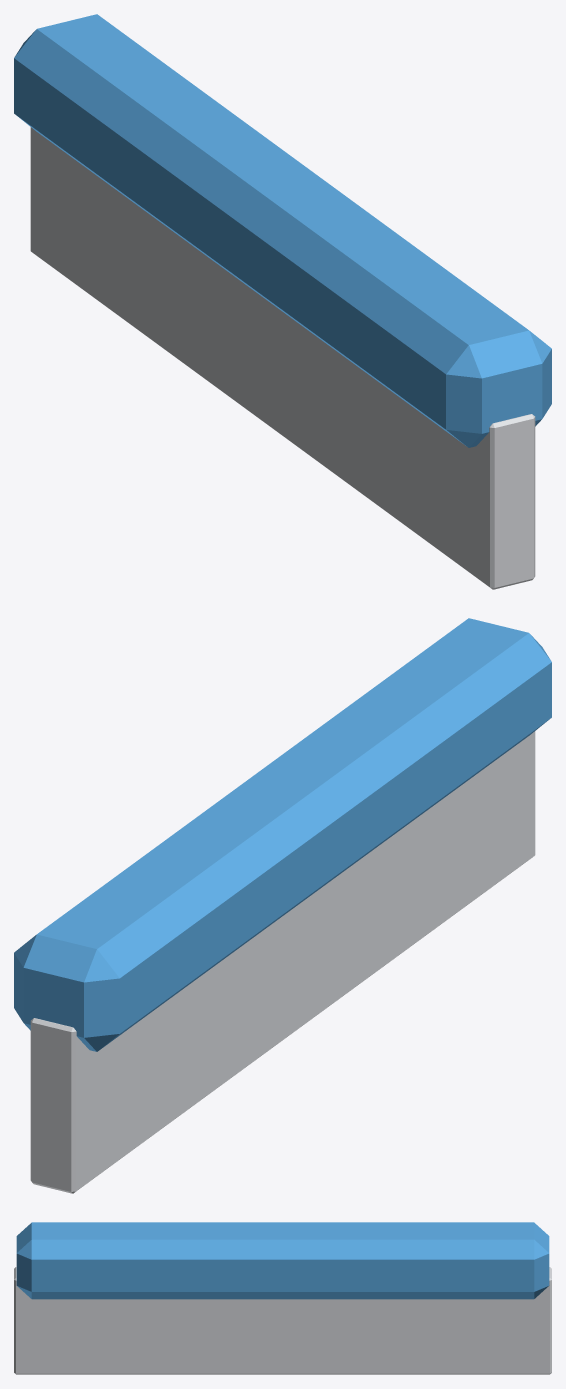
Rendered from frame.fbx.
The picture shows the model from 3 angles, top to bottom: view 1: azimuth 30°, elevation 25°; view 2: azimuth 150°, elevation 25°; view 3: azimuth 270°, elevation 25°; orthographic projection. The views are drawn at different scales.
Parts seen in each view (by area): view 1: 086-ball-pit-frame-with-balls/2, 086-ball-pit-frame-with-balls/0; view 2: 086-ball-pit-frame-with-balls/2, 086-ball-pit-frame-with-balls/0; view 3: 086-ball-pit-frame-with-balls/0, 086-ball-pit-frame-with-balls/2.
Part boxes in pixels (x1,y1,x2,y2): 086-ball-pit-frame-with-balls/2: (14, 14, 551, 447); 086-ball-pit-frame-with-balls/0: (30, 127, 535, 589); 086-ball-pit-frame-with-balls/2: (14, 618, 551, 1051); 086-ball-pit-frame-with-balls/0: (30, 731, 535, 1193); 086-ball-pit-frame-with-balls/0: (14, 1267, 551, 1374); 086-ball-pit-frame-with-balls/2: (16, 1222, 549, 1299).
Bounding box in the file's own units: 28 × 59.99 × 212.
